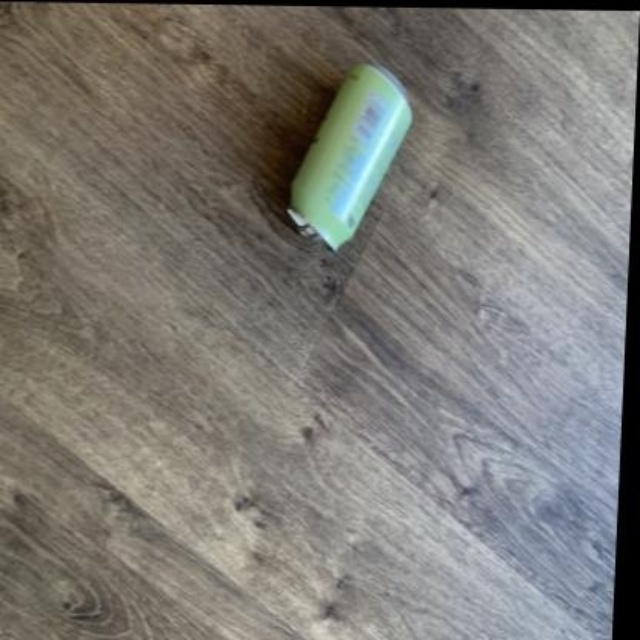trash: (288, 63, 411, 249)
